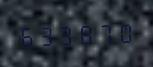eight: (75, 20, 93, 46)
seven: (94, 19, 112, 45)
six: (17, 22, 35, 48)
three: (56, 20, 74, 47), (36, 21, 54, 47)
zero: (113, 18, 131, 45)
